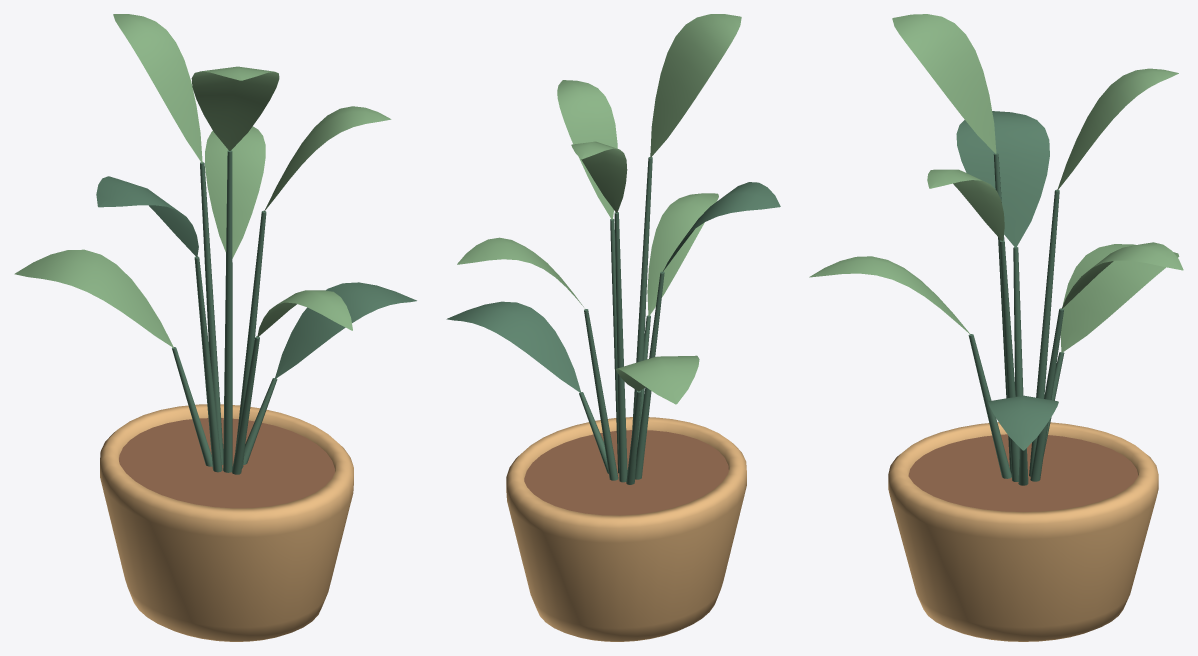
File: kit_plant_small_v1.glb
3 views of the same model, side by side, from view 1: azimuth 30°, elevation 25°; view 2: azimuth 150°, elevation 25°; view 3: azimuth 270°, elevation 25° (orthographic). The views are drawn at different scales.
Parts seen in each view (by area): view 1: body; view 2: body; view 3: body.
Part boxes in pixels (x1,y1,x2,y2): body: (14, 14, 416, 641); body: (446, 14, 780, 641); body: (809, 14, 1183, 641).
Bounding box in the file's own units: 0.3 × 0.5 × 0.3.
